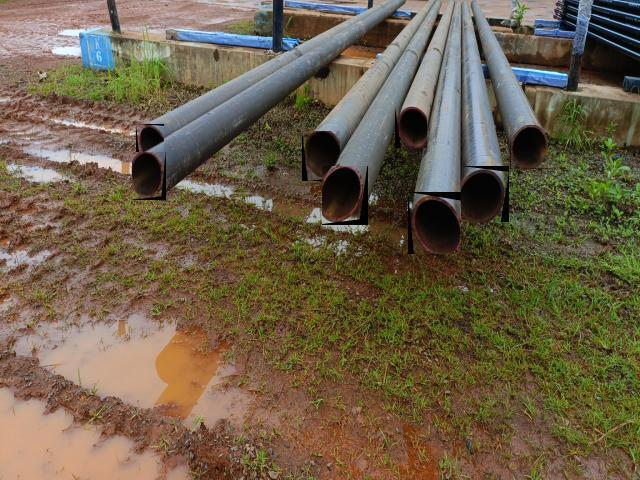pipe: (408, 192, 461, 254), (322, 166, 368, 225), (461, 166, 509, 222), (302, 132, 340, 182), (510, 125, 548, 169), (132, 152, 166, 200), (395, 106, 427, 148), (136, 124, 164, 153)
